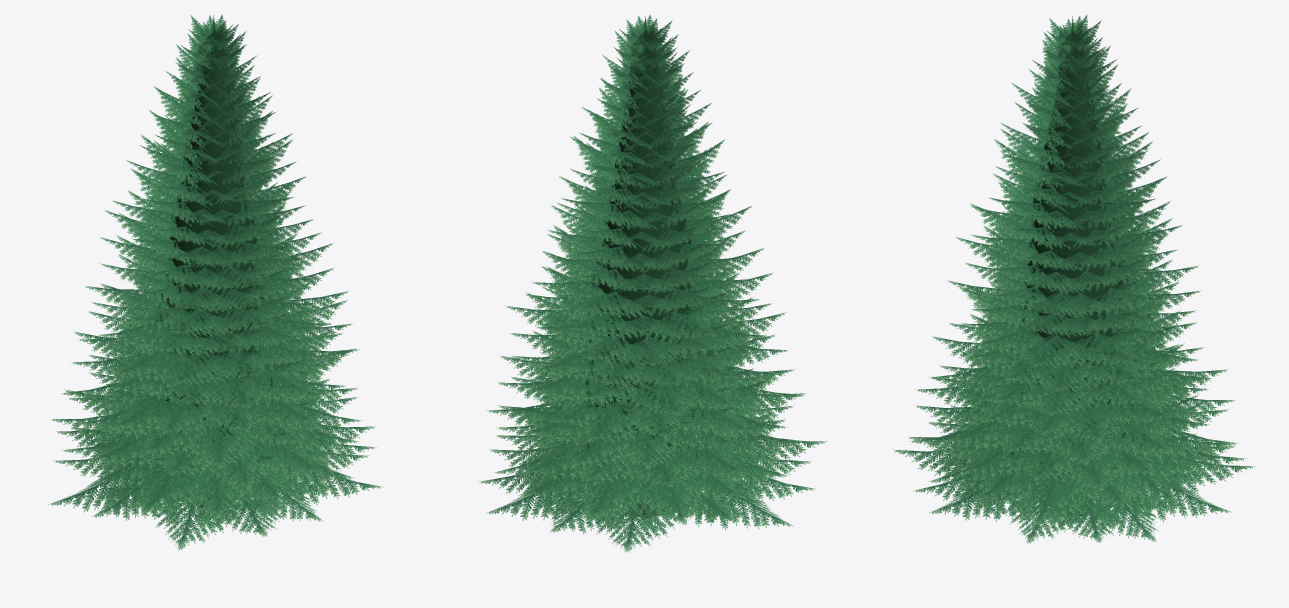
The model's file is fir.glb.
3 renders of one model, left to right at view 1: azimuth 30°, elevation 25°; view 2: azimuth 150°, elevation 25°; view 3: azimuth 270°, elevation 25°, orthographic.
Visible parts, largest first — view 1: FirLeaves, FirCore; view 2: FirLeaves, FirCore; view 3: FirLeaves, FirCore.
Part boxes in pixels (x1,y1,x2,y2): FirLeaves: (48, 14, 383, 550); FirCore: (151, 15, 276, 466); FirLeaves: (478, 14, 827, 552); FirCore: (575, 16, 714, 474); FirLeaves: (892, 14, 1255, 543); FirCore: (1004, 16, 1146, 473).
Bounding box in the file's own units: 1.41 × 2.05 × 1.48.
Materials: 3 (1 with a texture image).
